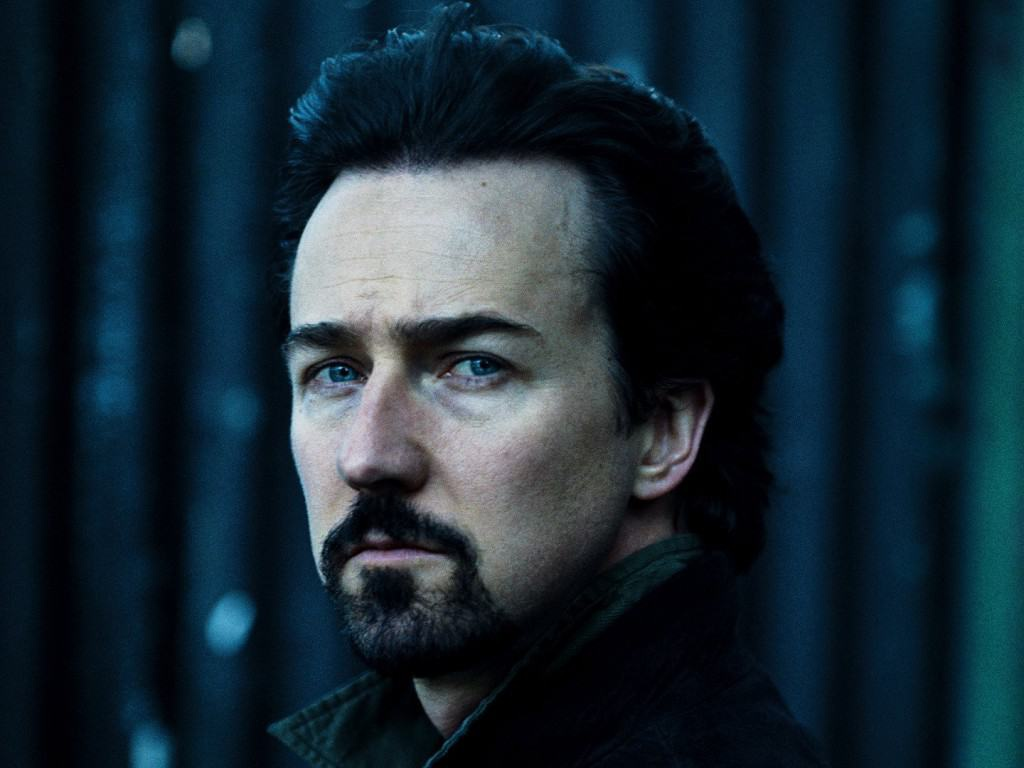bad: (204, 247, 589, 632), (210, 596, 262, 648), (165, 26, 208, 70)
